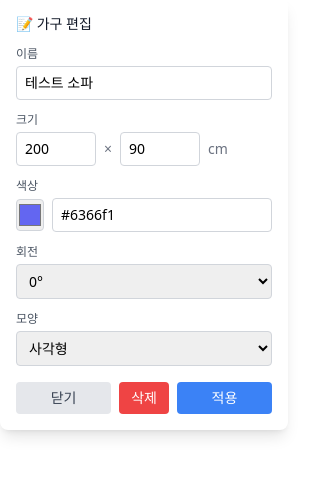
FurnitureEditForm 컴포넌트 › 빈 이름 입력 시 에러 표시
Clear the field below "이름" at (144, 83), box [16,66,272,100]
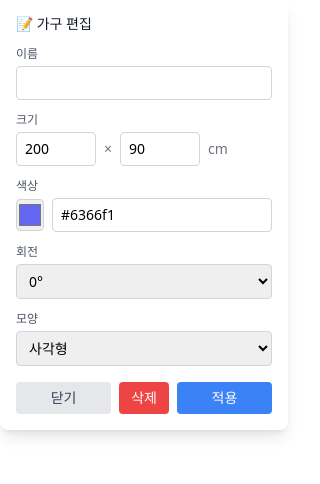
Click the button "적용".
click(224, 398)  # box [177,382,272,414]
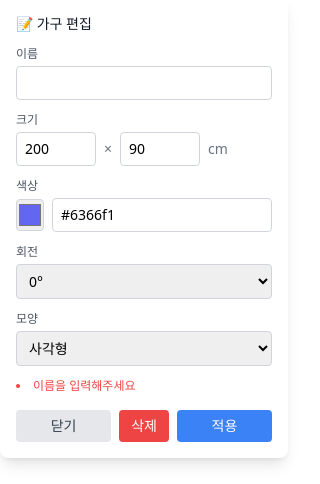
Check: the text "이름을 입력해주세요" is shown, box [33,377,136,394]
